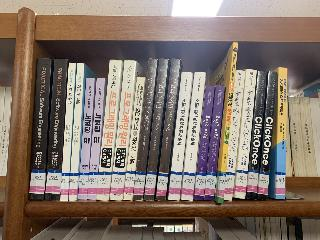book-spine: (155, 58, 181, 202), (110, 59, 136, 201), (133, 58, 158, 201), (97, 59, 122, 201), (144, 58, 168, 202), (44, 59, 68, 201), (218, 42, 239, 203), (168, 71, 193, 201), (181, 71, 206, 201), (29, 58, 51, 201), (233, 69, 257, 199), (257, 71, 279, 200), (245, 71, 267, 199), (224, 69, 245, 201), (124, 77, 145, 201), (204, 85, 226, 201), (194, 85, 215, 201), (60, 62, 77, 201), (69, 62, 85, 201), (87, 77, 105, 200), (78, 78, 95, 200), (276, 68, 287, 199)
